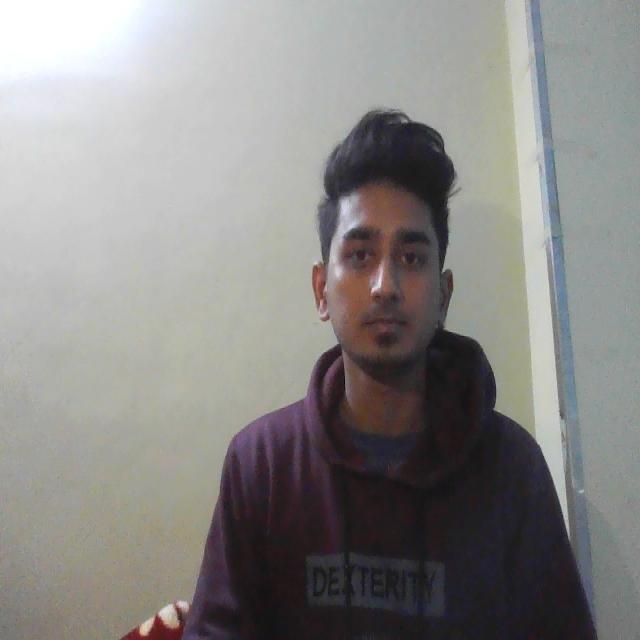real: (321, 132, 456, 388)
